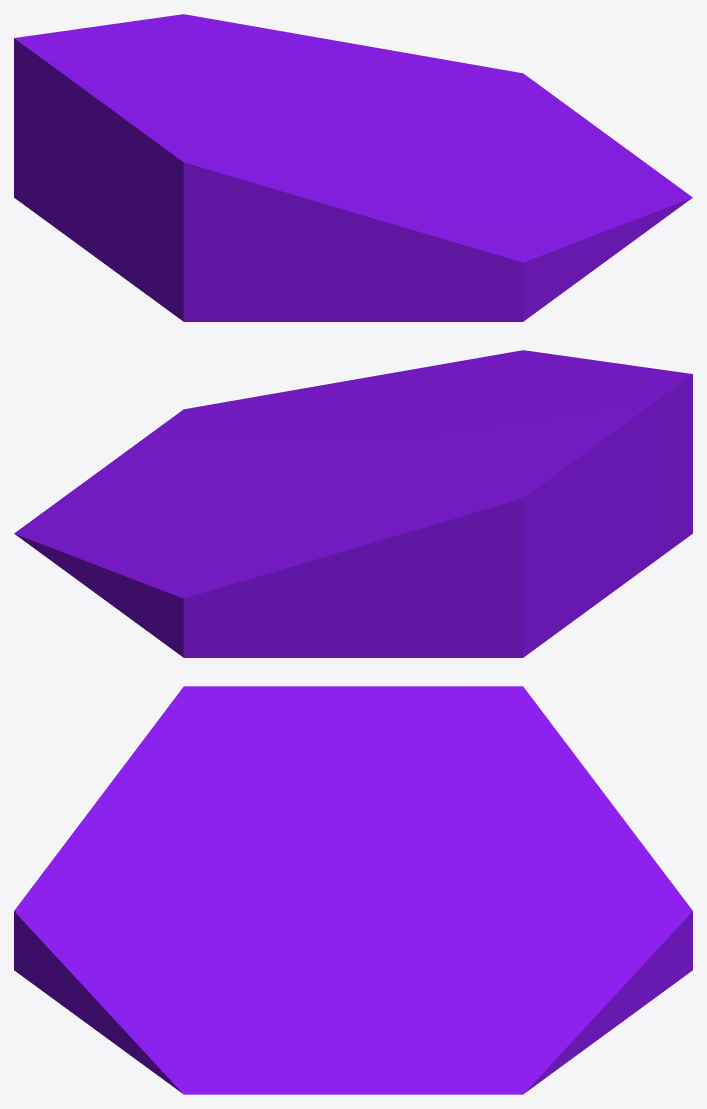
File: RampHex.fbx
3 views of the same model, one above another, from view 1: azimuth 30°, elevation 25°; view 2: azimuth 150°, elevation 25°; view 3: azimuth 270°, elevation 25° (orthographic).
Parts seen in each view (by area): view 1: Hex Ramp; view 2: Hex Ramp; view 3: Hex Ramp.
Boxes of the visible parts, x1,y1,x2,y2 form: Hex Ramp: (14,14,692,321); Hex Ramp: (14,350,692,657); Hex Ramp: (14,686,692,1094).
Size of the model in its own units: 20.05 by 6 by 23.15.
1 material, 1 textured.
